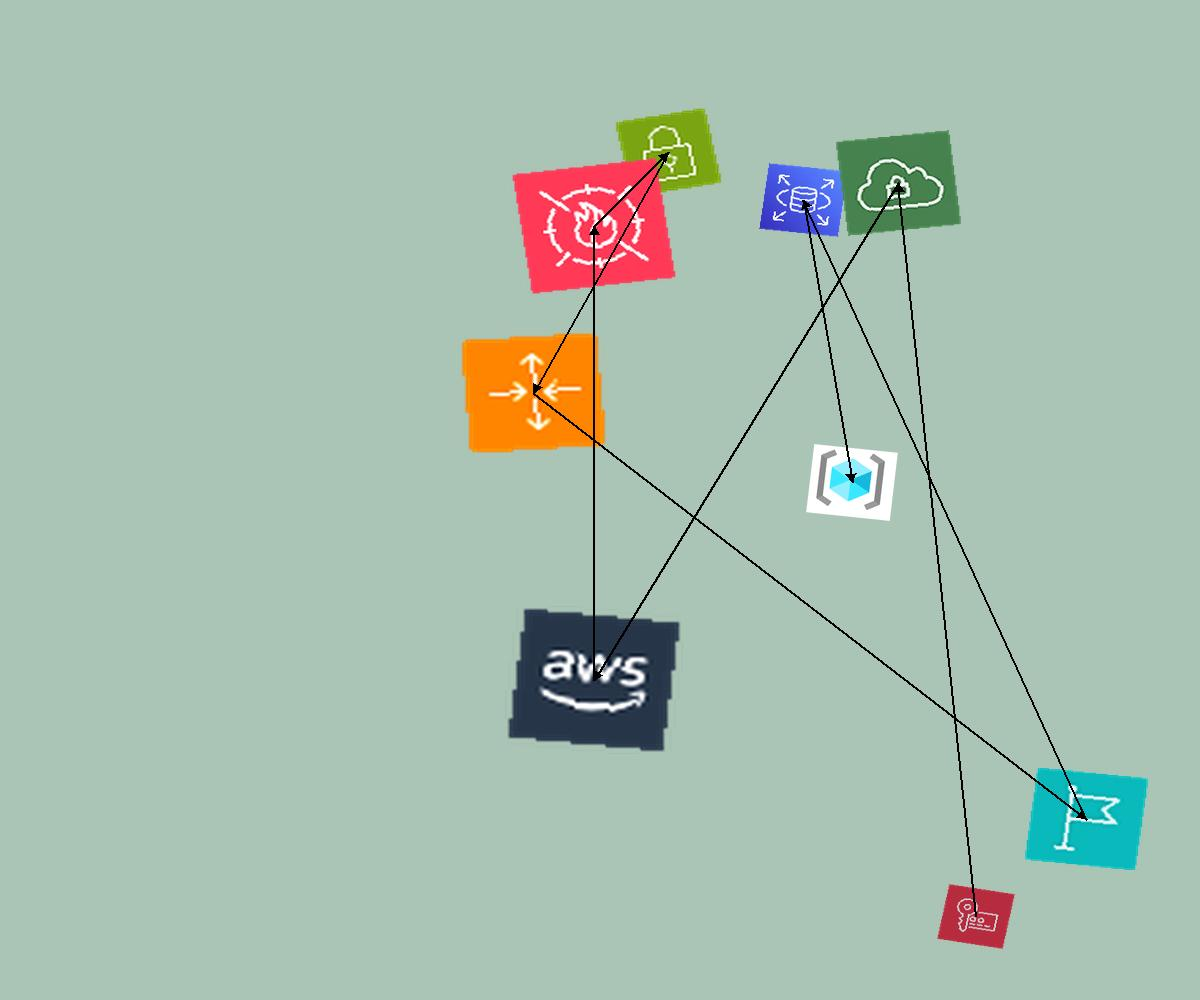AWS-Cloud-logo: (505, 606, 683, 754)
AWS-Key-Management-Service: (937, 884, 1015, 949)
AWS-Private_vpc: (835, 130, 962, 236)
AWS-Public-subnet: (614, 107, 723, 198)
AWS-RDS: (759, 163, 848, 237)
AWS-Region: (1024, 767, 1149, 871)
AWS-Scaling-group: (459, 331, 608, 455)
AWS-WAF: (511, 157, 677, 295)
Azure_resource_group: (806, 444, 898, 521)
